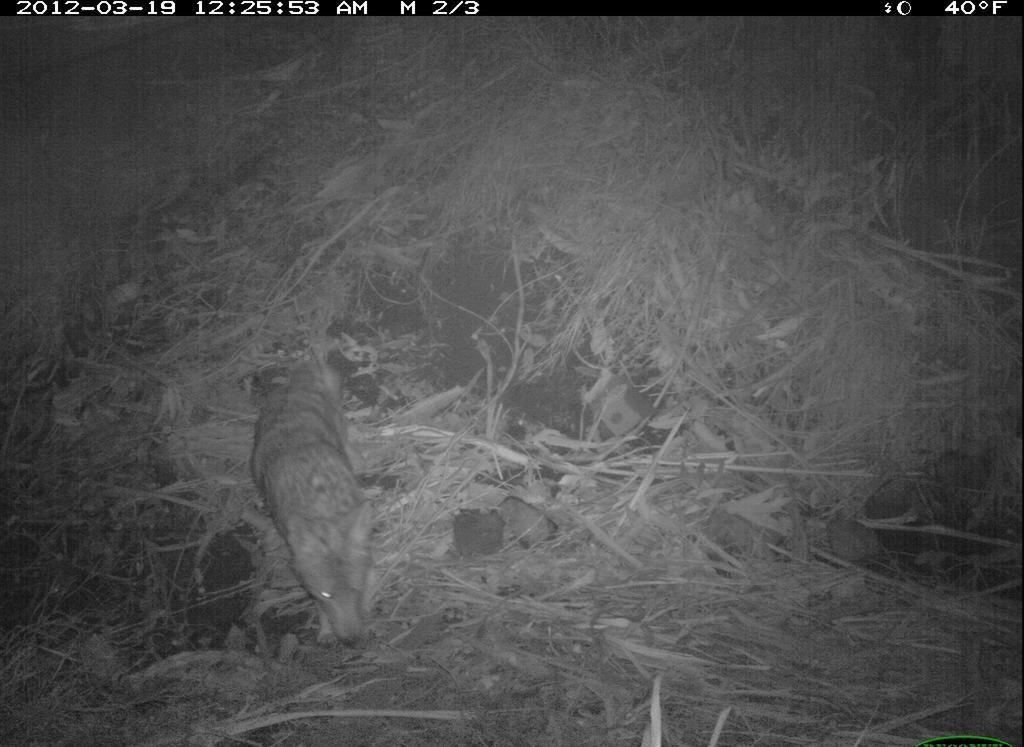coyote: (241, 345, 401, 662)
